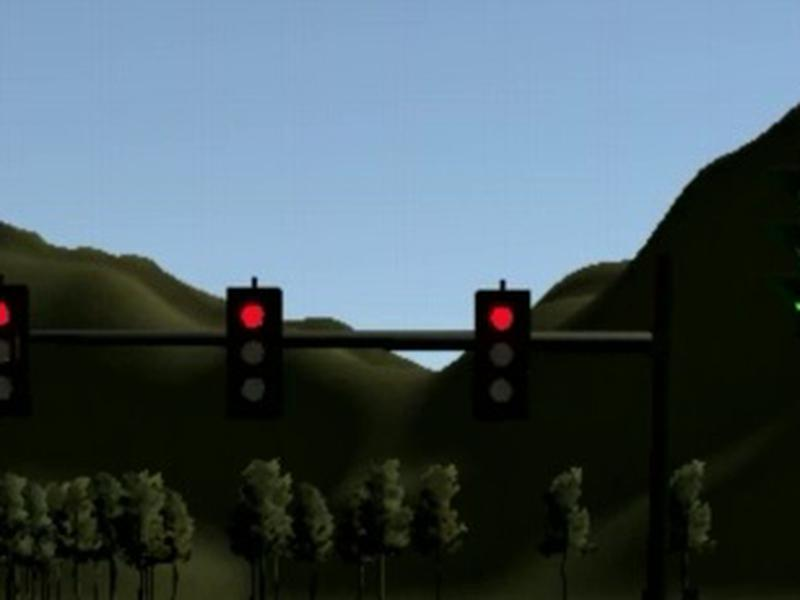Red: (225, 287, 284, 417), (476, 290, 531, 417), (1, 283, 31, 432)
